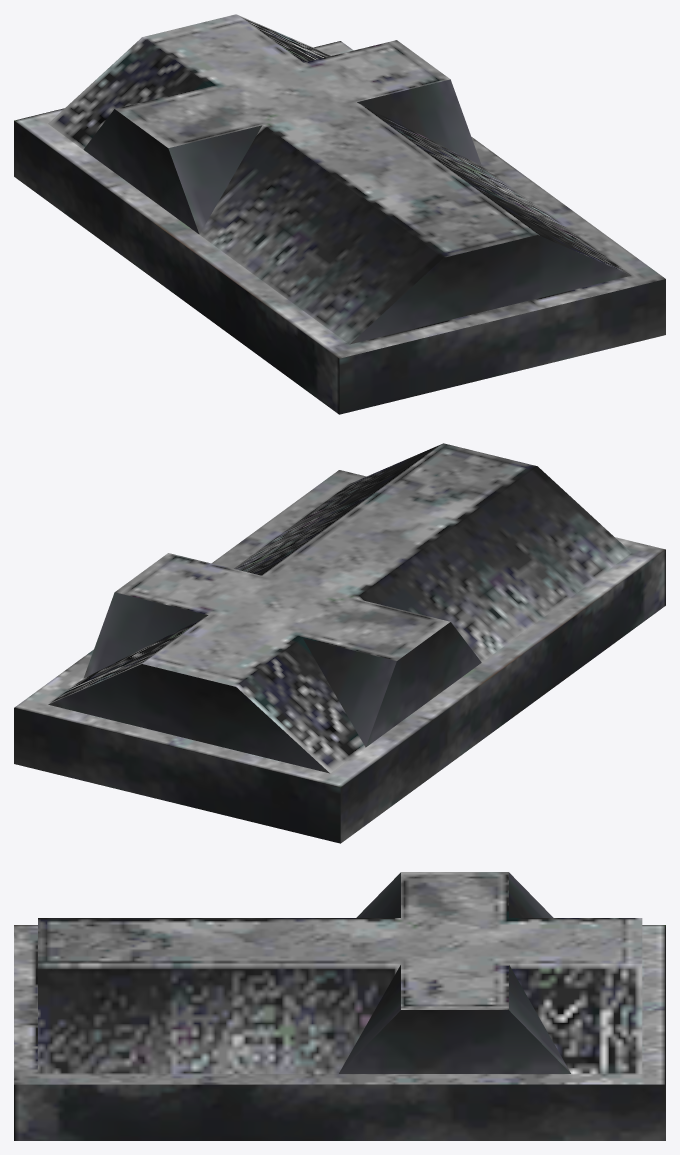
3 renders of one model, top to bottom at view 1: azimuth 30°, elevation 25°; view 2: azimuth 150°, elevation 25°; view 3: azimuth 270°, elevation 25°, orthographic.
Parts seen in each view (by area): view 1: Tomb02; view 2: Tomb02; view 3: Tomb02.
Part boxes in pixels (x1,y1,x2,y2): Tomb02: (14,14,665,414); Tomb02: (14,443,665,843); Tomb02: (14,872,665,1140).
Bounding box in the file's own units: 141 × 49.23 × 242.
